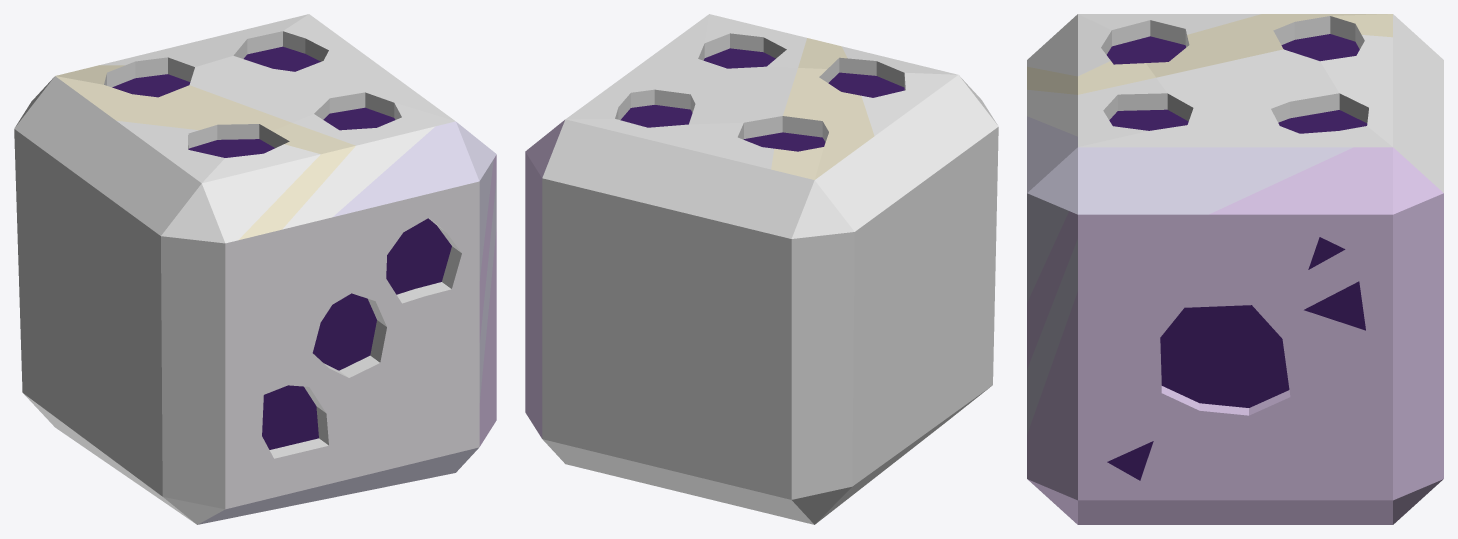
The model's file is cubik.fbx.
The picture shows the model from 3 angles, left to right: view 1: azimuth 30°, elevation 25°; view 2: azimuth 150°, elevation 25°; view 3: azimuth 270°, elevation 25°; orthographic projection. The views are drawn at different scales.
Visible parts, largest first — view 1: Cube; view 2: Cube; view 3: Cube.
Part boxes in pixels (left/top/right/bottom): Cube: left=14, top=14, right=496, bottom=524; Cube: left=525, top=14, right=998, bottom=524; Cube: left=1027, top=14, right=1443, bottom=524.
Bounding box in the file's own units: 200 × 204 × 200.
